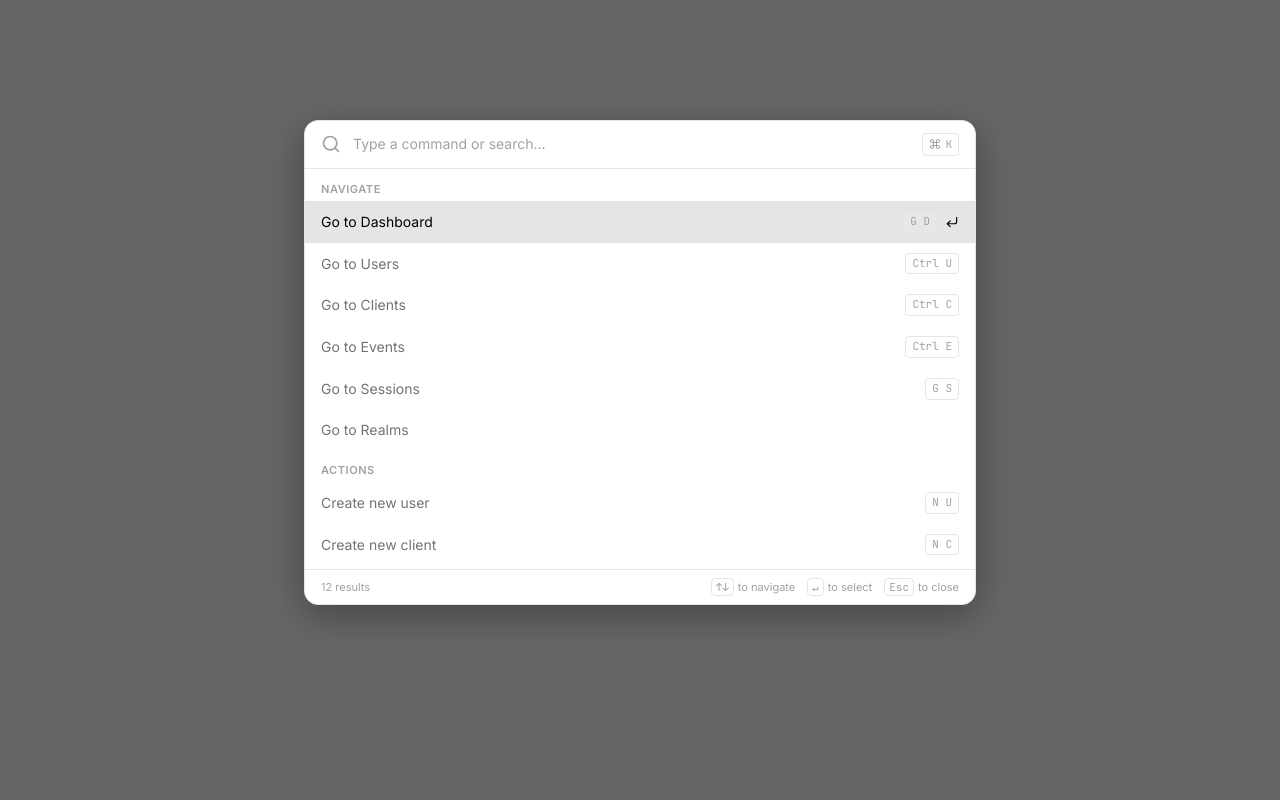
Scenario: CommandPalette › shows no results for unknown query
Type "xyzabc123" into the field with placeholder "Type a command or search..." at (632, 144), box [353,134,910,154]
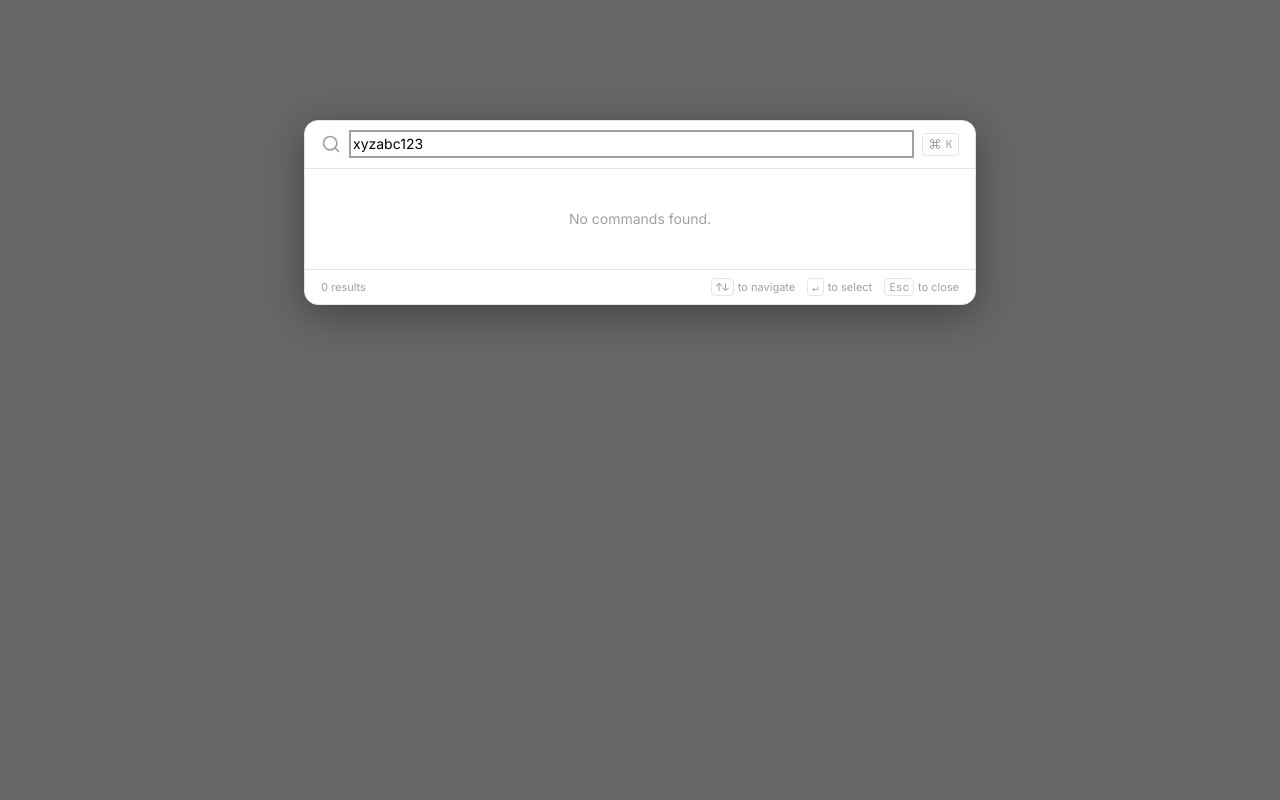
Expected: the text "No commands found." is shown, [569,210,711,226]
